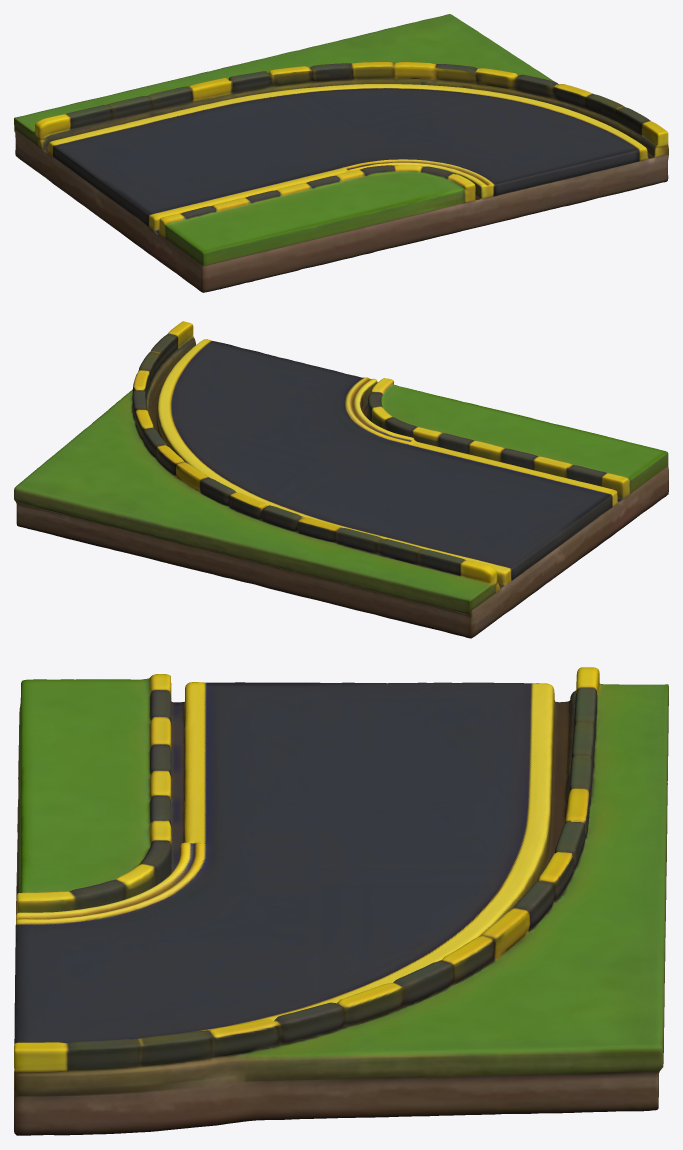
File: racetrack_3d_model.fbx
3 views of the same model, one above another, from view 1: azimuth 30°, elevation 25°; view 2: azimuth 150°, elevation 25°; view 3: azimuth 270°, elevation 25° (orthographic). The views are drawn at different scales.
Visible parts, largest first — view 1: tripo_node_eb5364e8; view 2: tripo_node_eb5364e8; view 3: tripo_node_eb5364e8.
Boxes of the visible parts, x1,y1,x2,y2 form: tripo_node_eb5364e8: (14,14,668,292); tripo_node_eb5364e8: (14,321,668,638); tripo_node_eb5364e8: (14,667,668,1135).
Size of the model in its own units: 0.9803 by 0.1019 by 0.6969.
